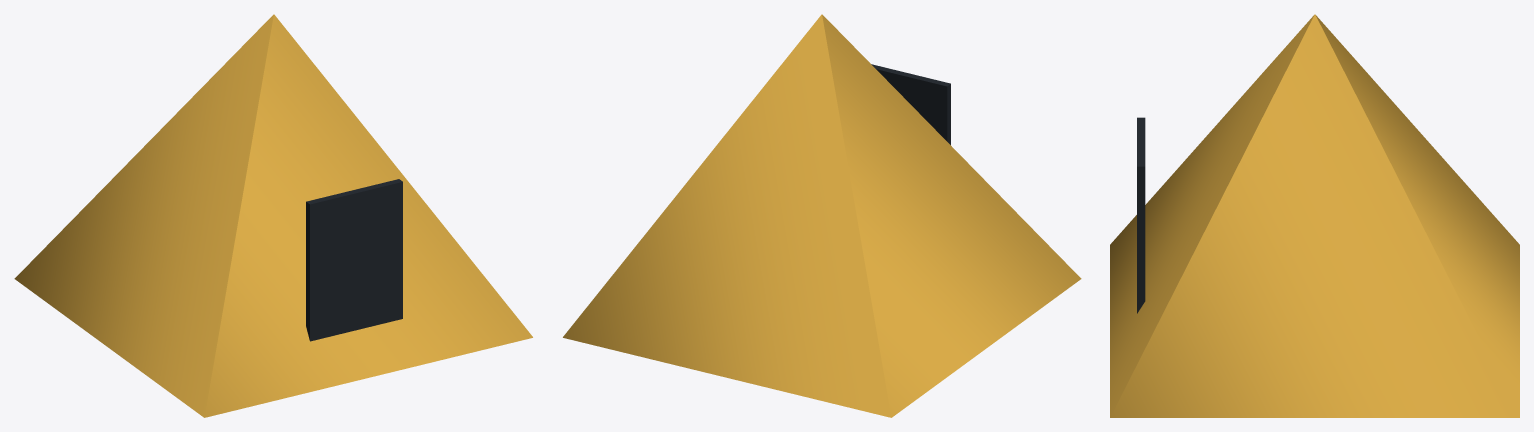
Rendered from tent.glb.
The picture shows the model from 3 angles, left to right: view 1: azimuth 30°, elevation 25°; view 2: azimuth 150°, elevation 25°; view 3: azimuth 270°, elevation 25°; orthographic projection. The views are drawn at different scales.
Bounding box in the file's own units: 1.7 × 1.45 × 1.7.
